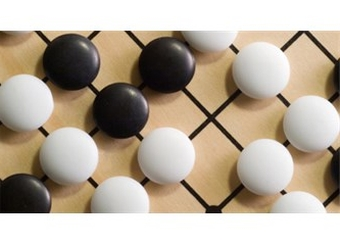black: (137, 36, 197, 94), (42, 33, 101, 91), (92, 82, 149, 140), (1, 173, 52, 212)
crossing: (198, 103, 226, 134)
white: (39, 126, 99, 187), (137, 126, 196, 186), (236, 138, 295, 197), (232, 41, 291, 100), (282, 95, 340, 155), (1, 73, 55, 134), (90, 176, 150, 212)
